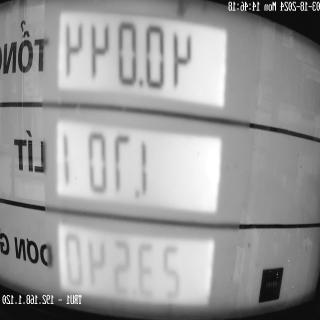screen: (51, 0, 234, 319)
